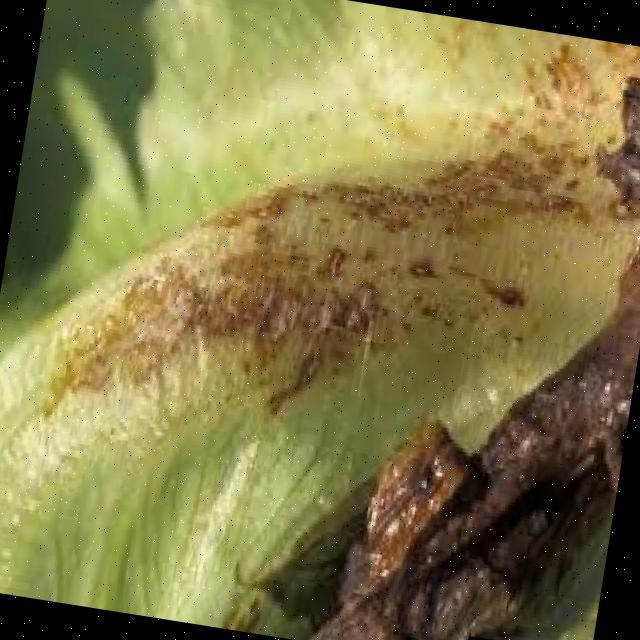Septoria_Blight_on_lettuce: (15, 81, 640, 640)
